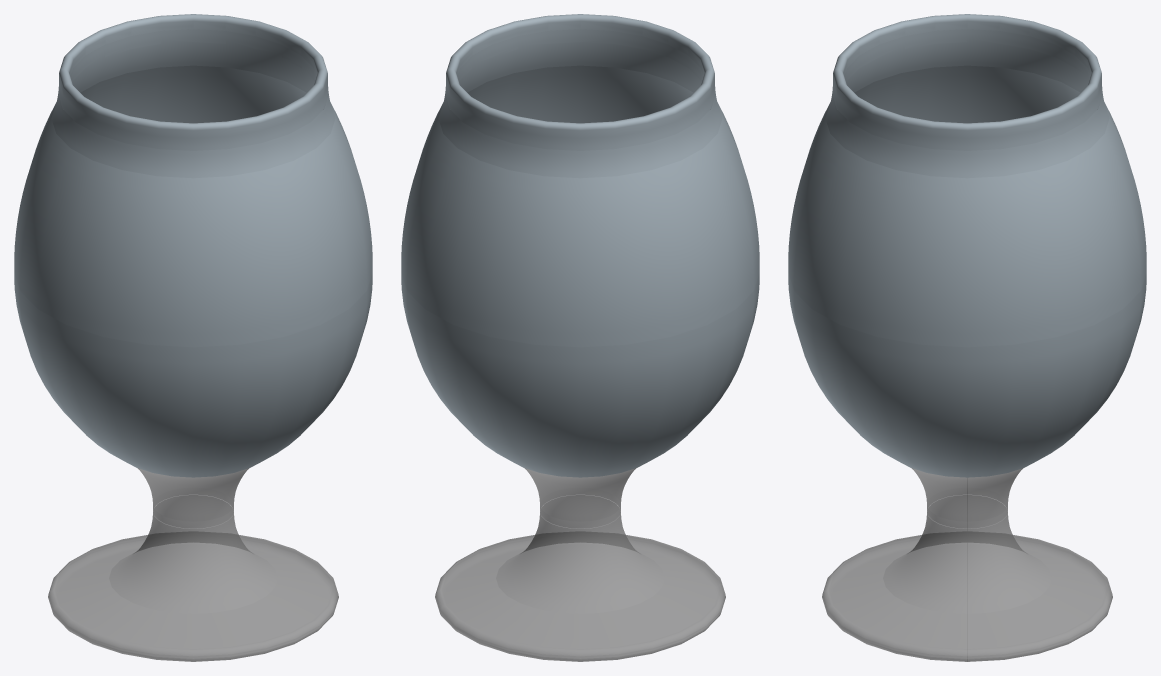
File: beer_cup.obj
The picture shows the model from 3 angles, left to right: view 1: azimuth 30°, elevation 25°; view 2: azimuth 150°, elevation 25°; view 3: azimuth 270°, elevation 25°; orthographic projection.
Parts seen in each view (by area): view 1: Mesh2 G_13oz_Libbey_Belgian_Snifter1 Model, Mesh4 G_13oz_Libbey_Belgian_Snifter1 Model, Mesh1 G_13oz_Libbey_Belgian_Snifter1 Model, Mesh3 G_13oz_Libbey_Belgian_Snifter1 Model; view 2: Mesh2 G_13oz_Libbey_Belgian_Snifter1 Model, Mesh4 G_13oz_Libbey_Belgian_Snifter1 Model, Mesh1 G_13oz_Libbey_Belgian_Snifter1 Model, Mesh3 G_13oz_Libbey_Belgian_Snifter1 Model; view 3: Mesh2 G_13oz_Libbey_Belgian_Snifter1 Model, Mesh4 G_13oz_Libbey_Belgian_Snifter1 Model, Mesh1 G_13oz_Libbey_Belgian_Snifter1 Model, Mesh3 G_13oz_Libbey_Belgian_Snifter1 Model.
Part boxes in pixels (x1,y1,x2,y2): Mesh2 G_13oz_Libbey_Belgian_Snifter1 Model: (14,94,372,528); Mesh4 G_13oz_Libbey_Belgian_Snifter1 Model: (48,495,338,661); Mesh1 G_13oz_Libbey_Belgian_Snifter1 Model: (64,29,322,151); Mesh3 G_13oz_Libbey_Belgian_Snifter1 Model: (58,14,328,150); Mesh2 G_13oz_Libbey_Belgian_Snifter1 Model: (401,94,759,528); Mesh4 G_13oz_Libbey_Belgian_Snifter1 Model: (435,495,725,661); Mesh1 G_13oz_Libbey_Belgian_Snifter1 Model: (451,29,709,151); Mesh3 G_13oz_Libbey_Belgian_Snifter1 Model: (445,14,715,150); Mesh2 G_13oz_Libbey_Belgian_Snifter1 Model: (788,94,1146,528); Mesh4 G_13oz_Libbey_Belgian_Snifter1 Model: (822,495,1112,661); Mesh1 G_13oz_Libbey_Belgian_Snifter1 Model: (838,29,1096,151); Mesh3 G_13oz_Libbey_Belgian_Snifter1 Model: (832,14,1102,150).
Size of the model in its own units: 2.95 by 4.84 by 2.95.
